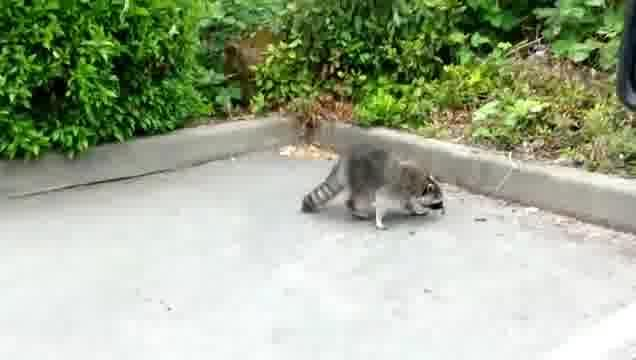raccoon: (303, 143, 446, 230)
